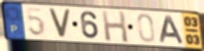0: (136, 12, 157, 44)
5: (25, 7, 48, 39)
6: (79, 10, 100, 41)
A: (159, 15, 186, 45)
H: (100, 10, 131, 44)
V: (47, 7, 73, 41)
